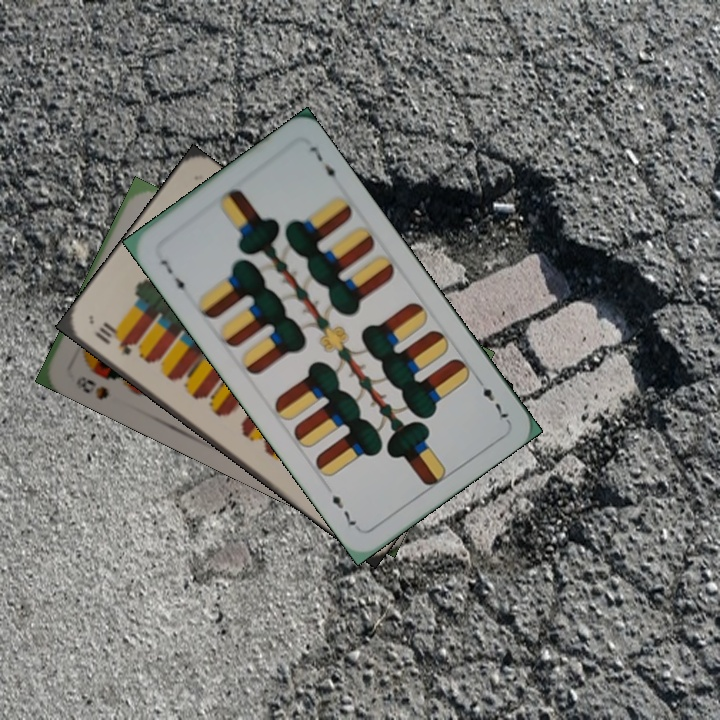E10: (91, 320, 134, 358)
E7: (471, 372, 512, 424), (156, 255, 189, 299)
S8: (72, 372, 111, 402)
